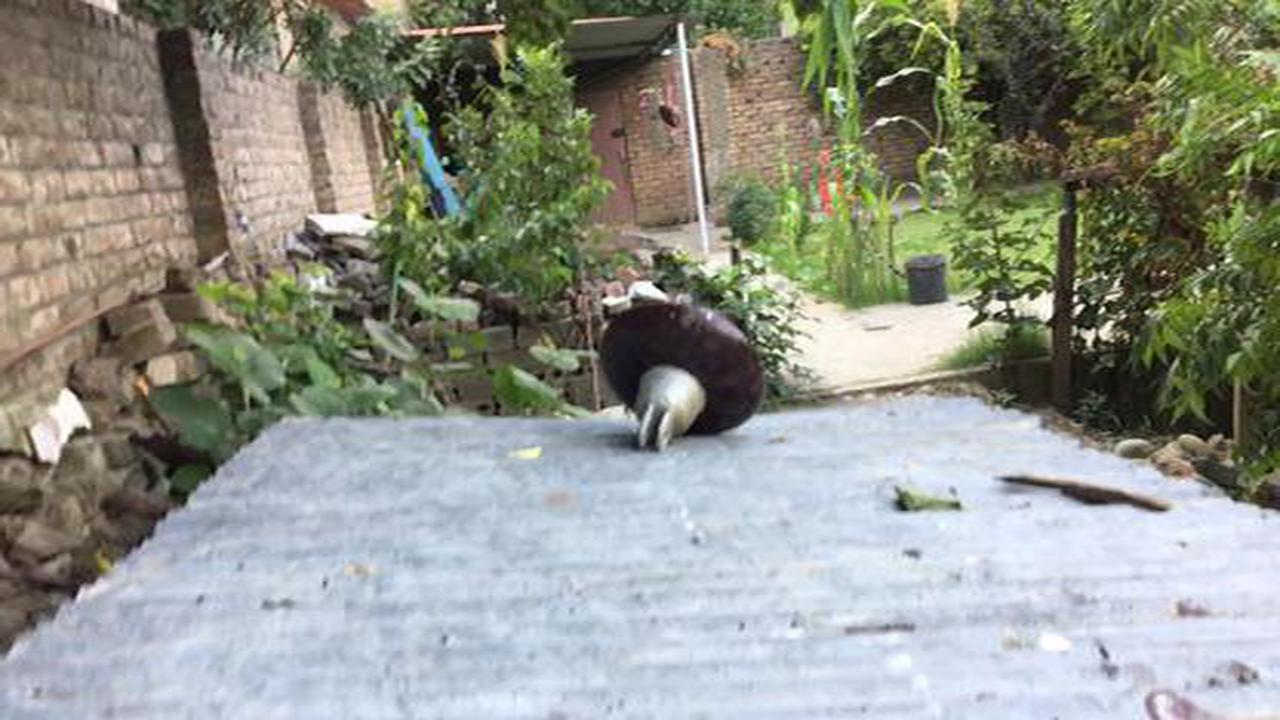insulator_disc: (595, 296, 776, 458)
